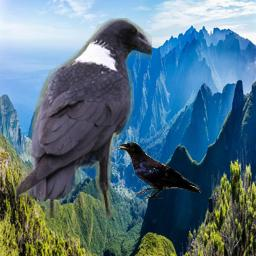Crow: (14, 18, 152, 218), (118, 142, 201, 199)
